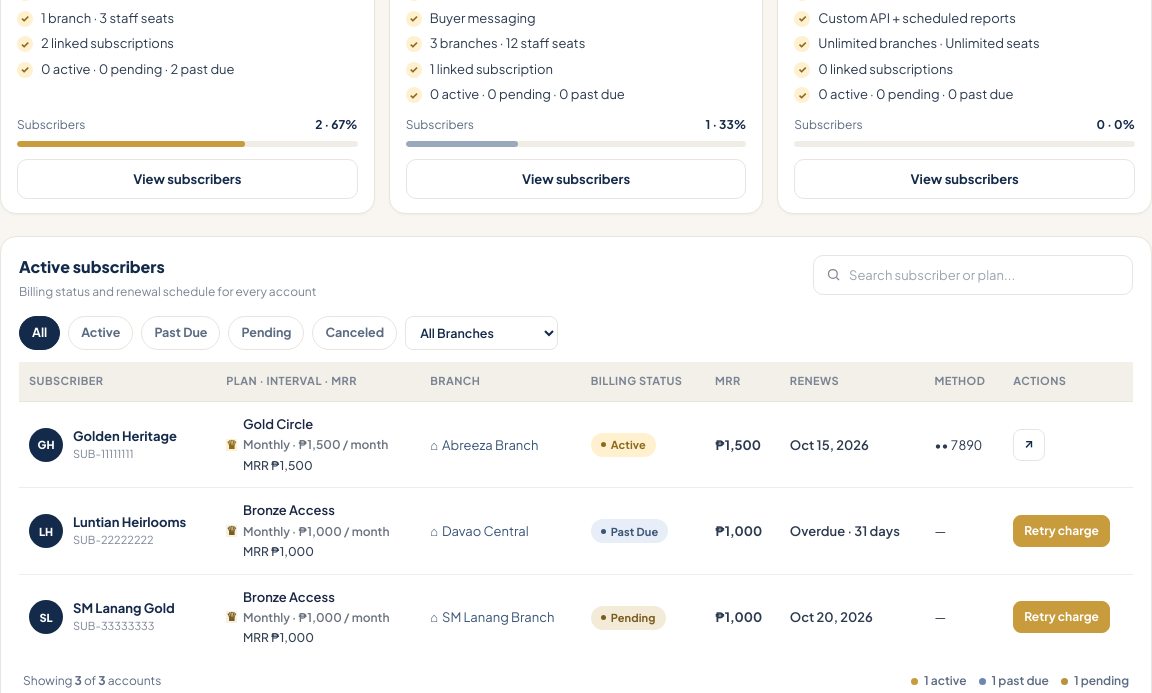
Test: Admin Subscriptions redesign › filters by status pills
The image size is (1152, 693).
(page scrolled)
Expected: the text "Golden Heritage" is shown, [73, 428, 177, 444]
What coordinates should you click on to do the following:
click the tab "Past Due"
I would click on:
 (181, 333)
Its box is [141, 316, 220, 350].
(page scrolled)
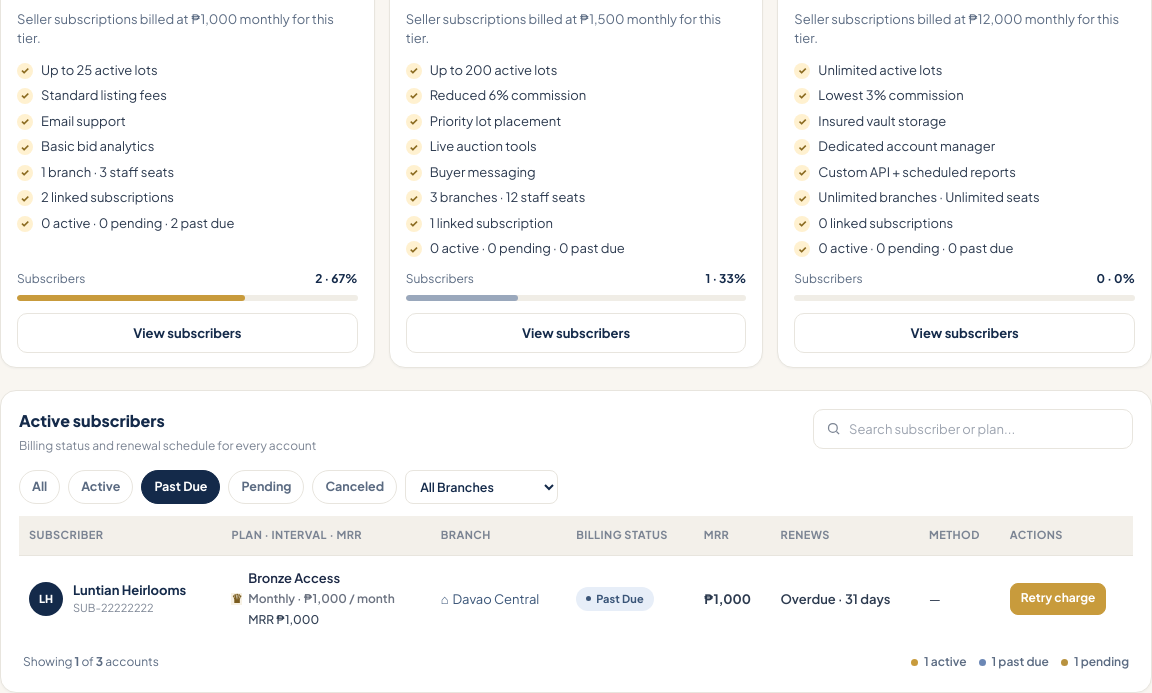
Expected: the text "Luntian Heirlooms" is shown, [73, 582, 186, 598]
Expected: the text "Golden Heritage" is gone
